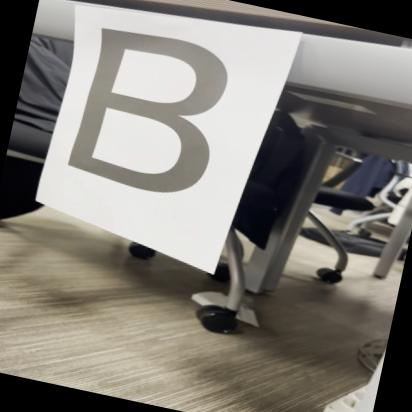seat: (44, 16, 274, 220)
